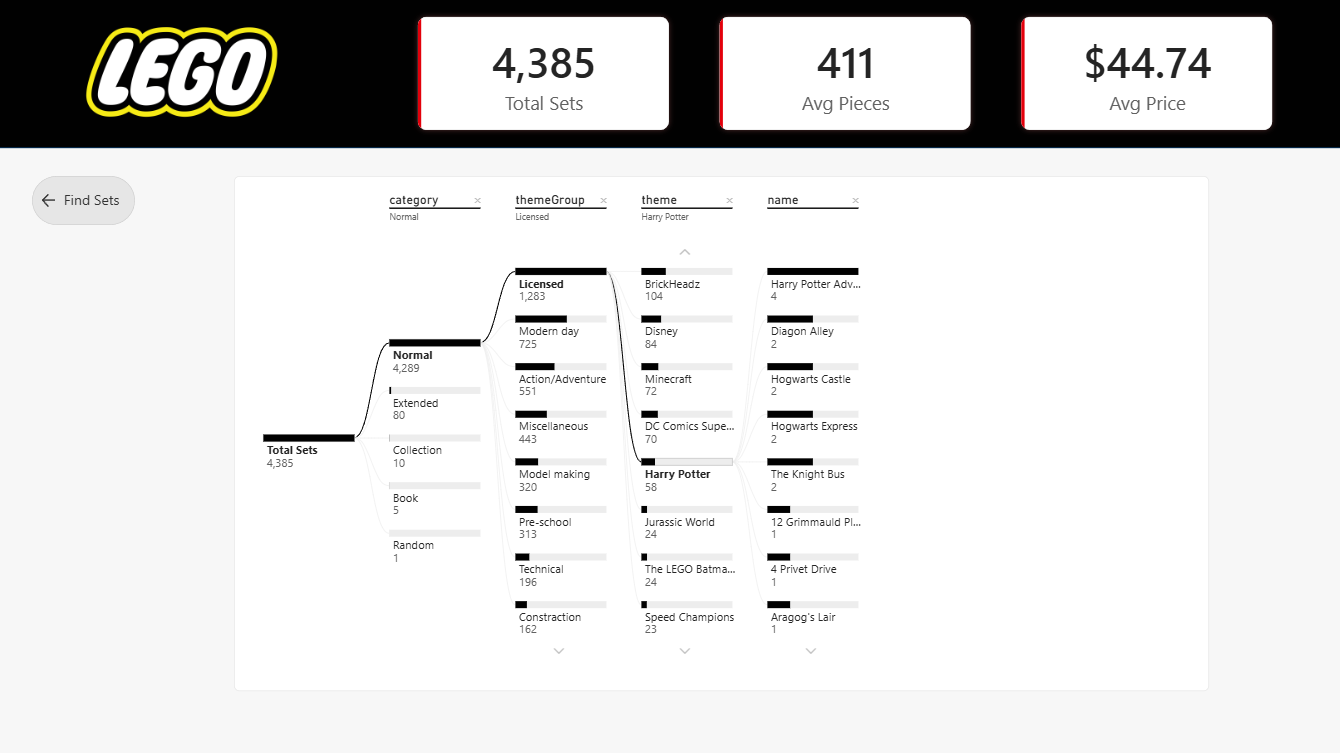

This screenshot's page, from the dashboard's own definition file:
{"tool":"powerbi","page":{"name":"Set Explorer","canvas":[1920,1080],"ordinal":2},"visuals":[{"type":"shape","box":[0,0,1920,213.3],"z":0},{"type":"cardVisual","title":"KPI Cards","fields":{"Data":["Measure Table.Total Sets","Measure Table.Avg Pieces","Measure Table.Avg Price"]},"box":[587.1,14.3,1245.7,184.3],"z":1000},{"type":"image","title":"LEGO logo","box":[72.9,27.1,377.1,160],"z":2000},{"type":"decompositionTreeVisual","fields":{"Analyze":["Measure Table.Total Sets"],"ExplainBy":["lego_sets.category","lego_sets.themeGroup","lego_sets.theme","lego_sets.name"]},"box":[335.7,252.9,1392.9,735.7],"z":3000},{"type":"actionButton","title":"Reset Filter Button","box":[47.6,252.7,147.1,70],"z":4000}]}

Visuals, with their boxes in screenshot pixels (x1, y1, x2, y2), scaled from the page's 1920x1080 canvas onto the 1340x753 screenshot:
shape: [0,0,1339,149]
"KPI Cards" cardVisual: [410,10,1279,138]
"LEGO logo" image: [51,19,314,130]
decompositionTreeVisual - Measure Table.Total Sets x lego_sets.category: [234,176,1206,689]
"Reset Filter Button" actionButton: [33,176,136,225]
